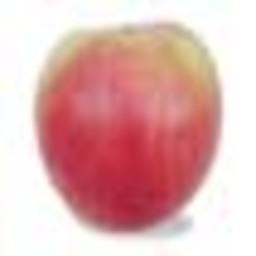apple: (32, 19, 223, 236)
